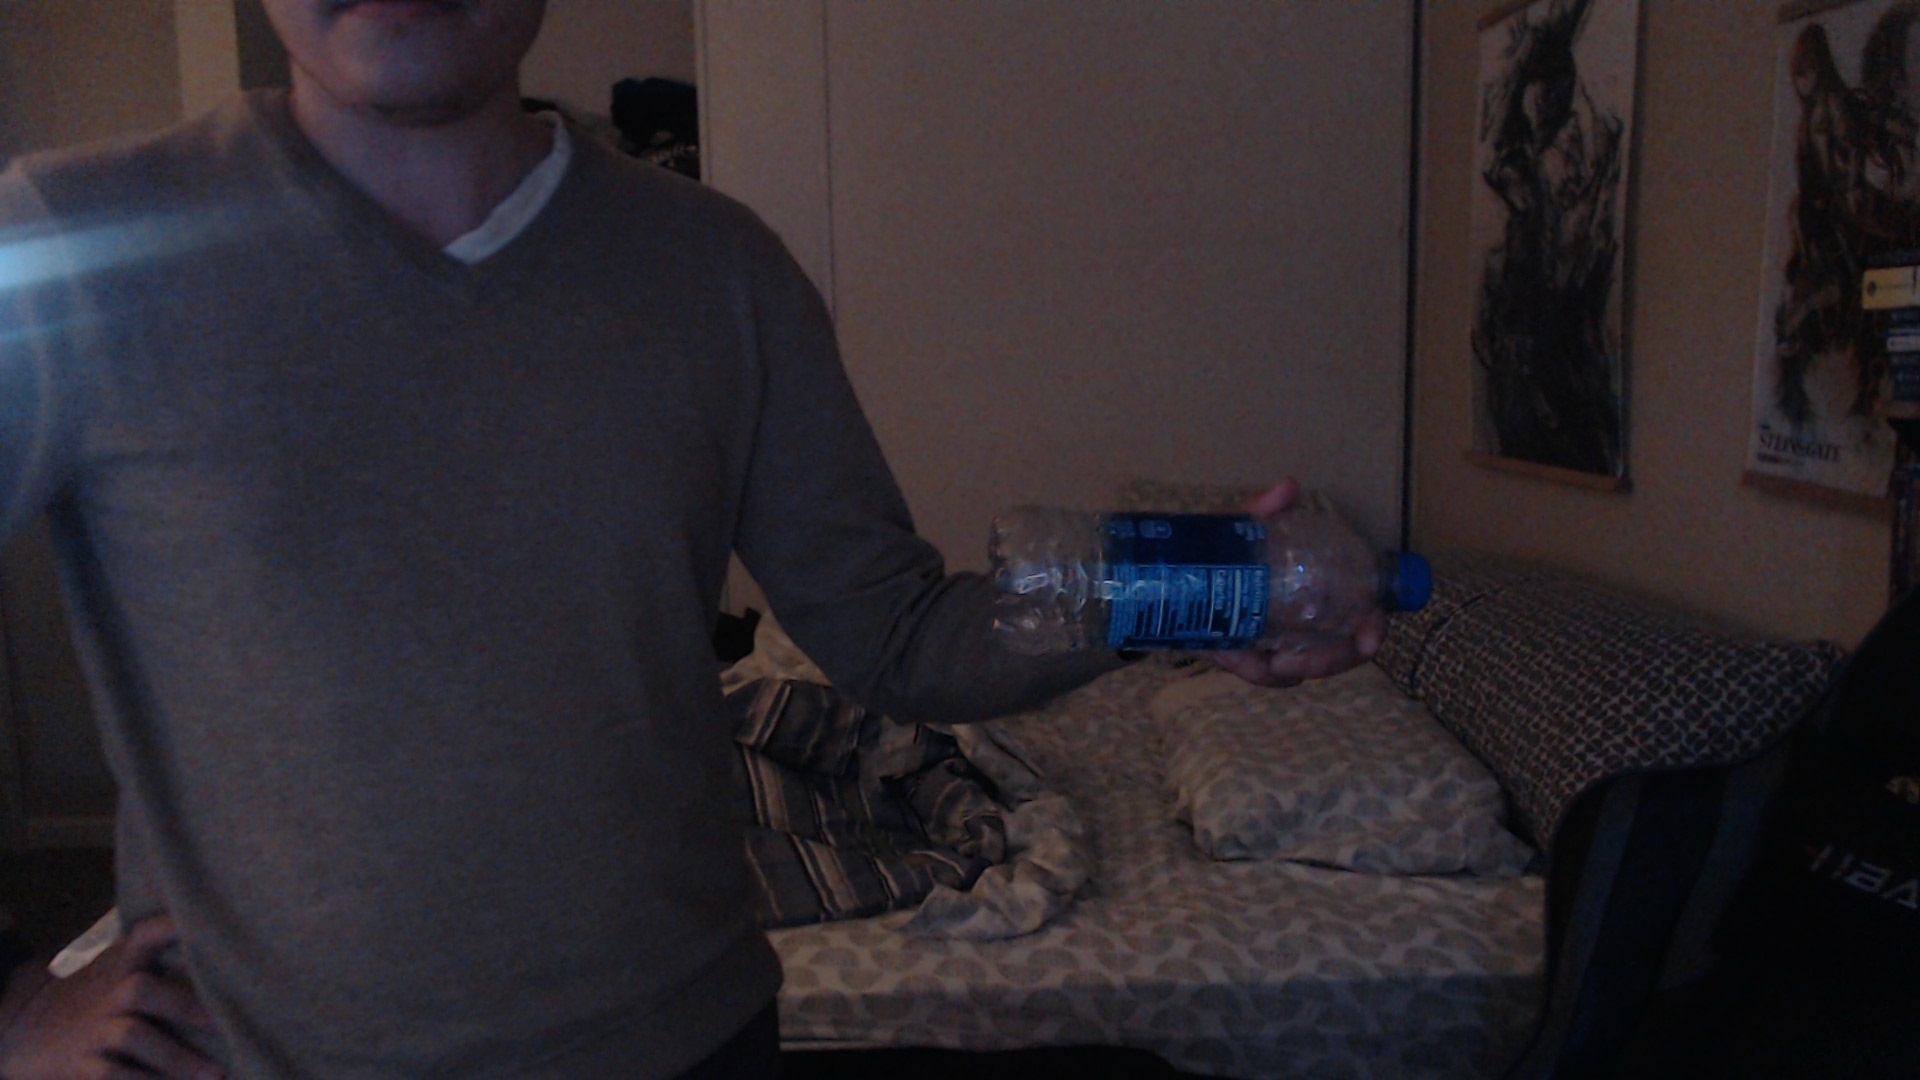bottle: (982, 495, 1433, 651)
